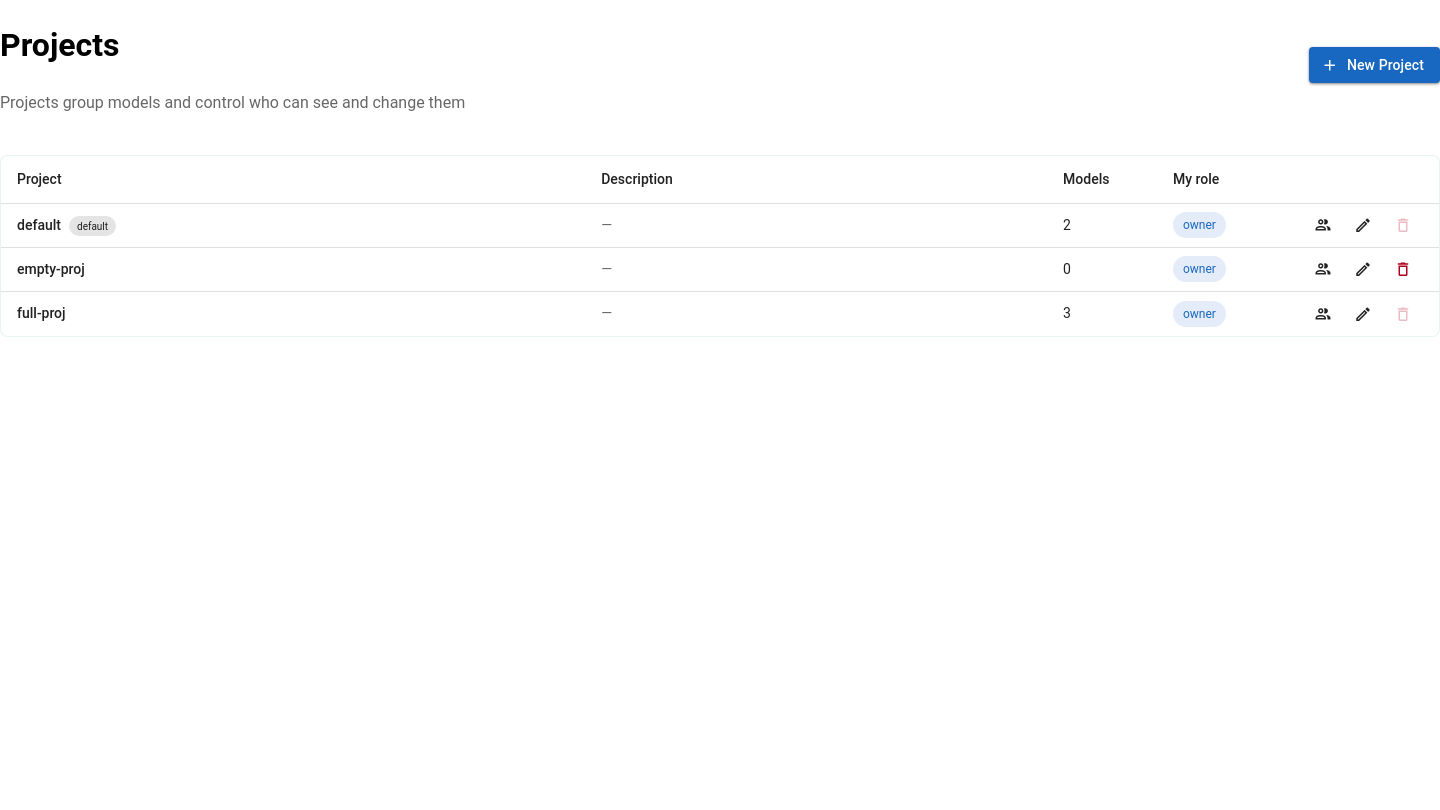
Test case: ProjectsPage membership edge cases › reports a failed reload even after an earlier successful load
What coordinates should you click on to do the following:
click the button named "Delete empty-proj"
I would click on:
 (1403, 269)
Its box is 1383,249 -> 1423,289.
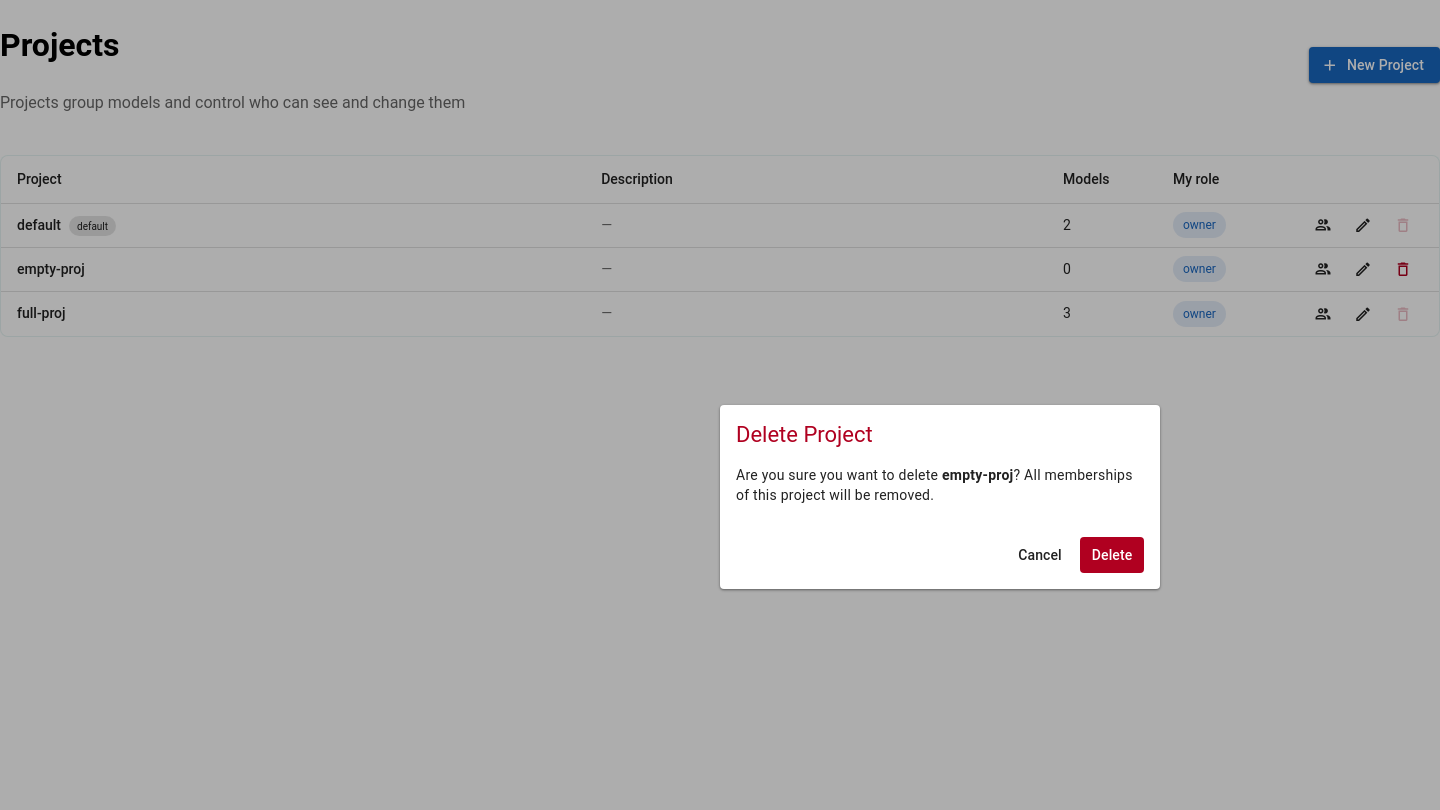
What coordinates should you click on to do the following:
click the button "Delete"
I would click on:
 (1112, 555)
Its box is 1080,537 -> 1144,573.
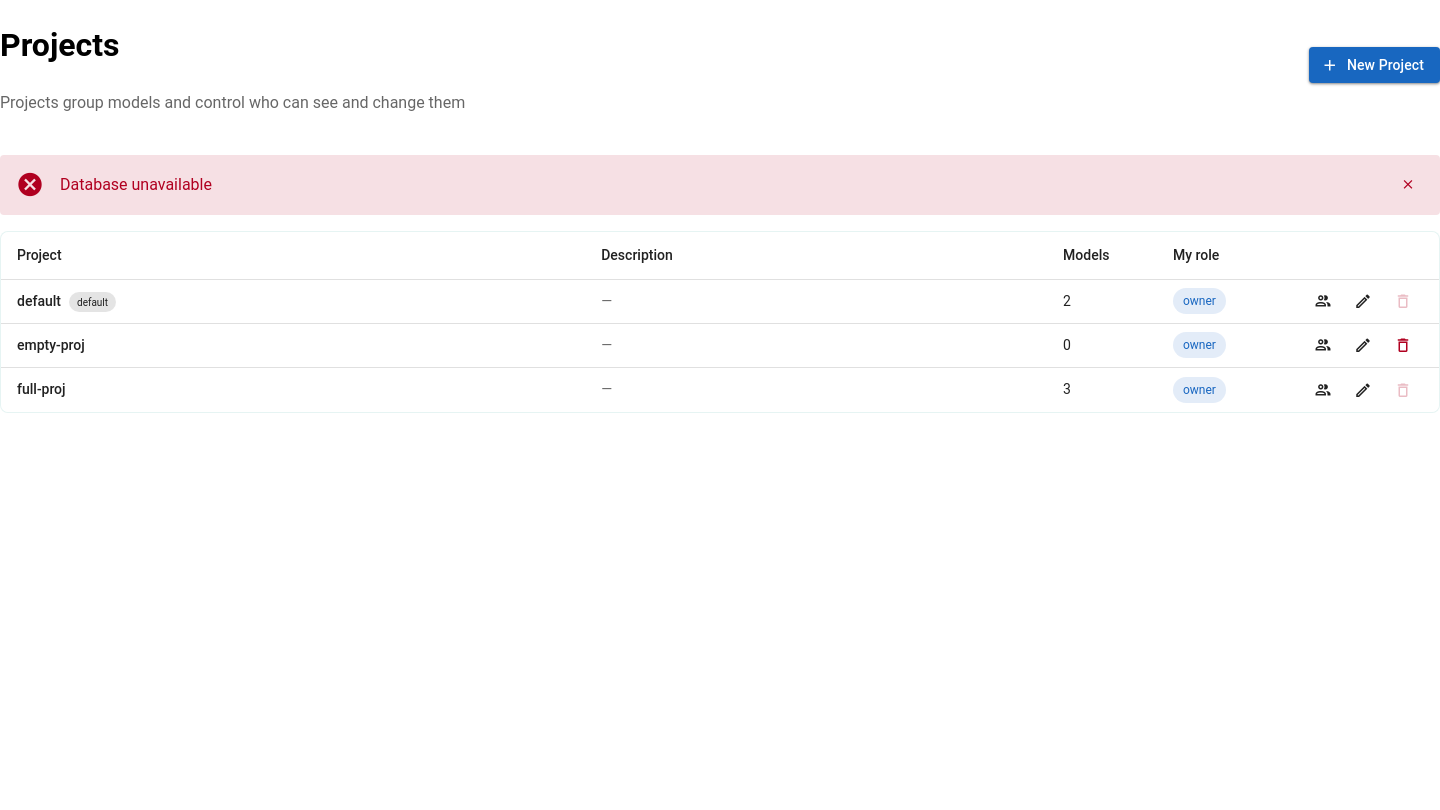
Expected: the text "Database unavailable" is shown, 60,175 -> 212,194
